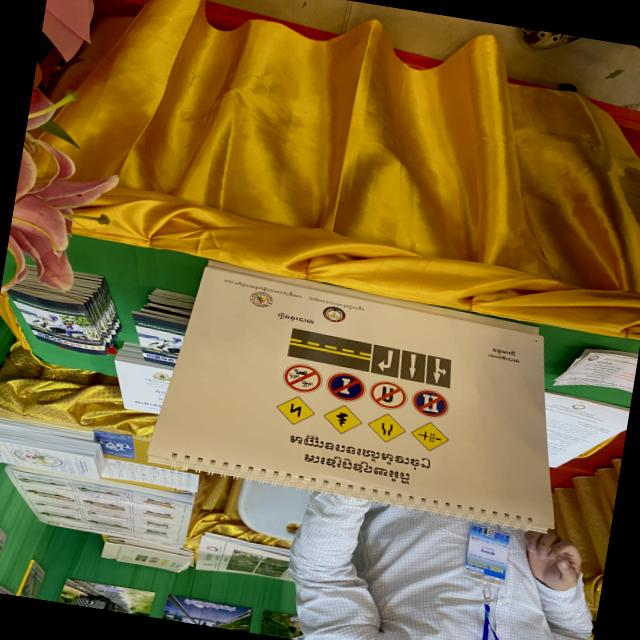1: (308, 294, 365, 314)
650: (488, 564, 506, 575)
Yolov11_80vkh: (286, 430, 437, 474), (295, 450, 420, 488), (220, 276, 304, 301), (275, 309, 319, 328), (487, 353, 521, 366), (490, 346, 519, 359)
